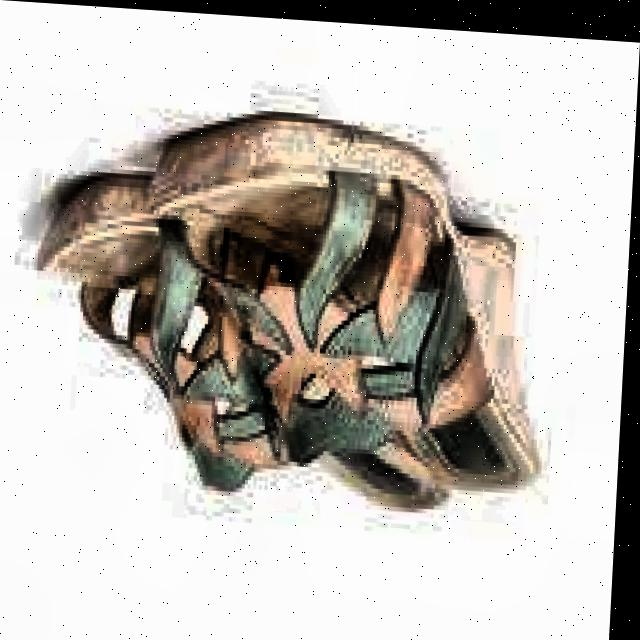shoes: (23, 74, 593, 562)
